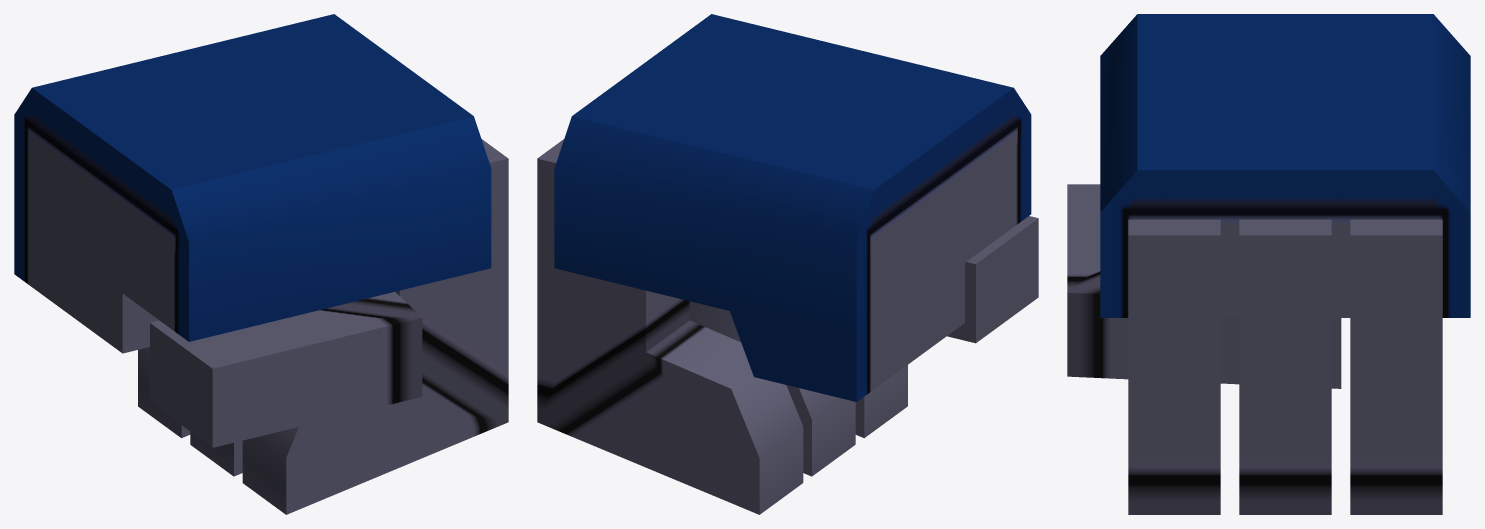
3 renders of one model, left to right at view 1: azimuth 30°, elevation 25°; view 2: azimuth 150°, elevation 25°; view 3: azimuth 270°, elevation 25°, orthographic. The views are drawn at different scales.
Visible parts, largest first — view 1: Joint_0_Object_0; view 2: Joint_0_Object_0; view 3: Joint_0_Object_0.
Part boxes in pixels (x1,y1,x2,y2): Joint_0_Object_0: (14,14,508,514); Joint_0_Object_0: (537,14,1038,514); Joint_0_Object_0: (1067,14,1470,514).
Bounding box in the file's own units: 32.67 × 32.73 × 32.35.
1 material, 1 textured.
